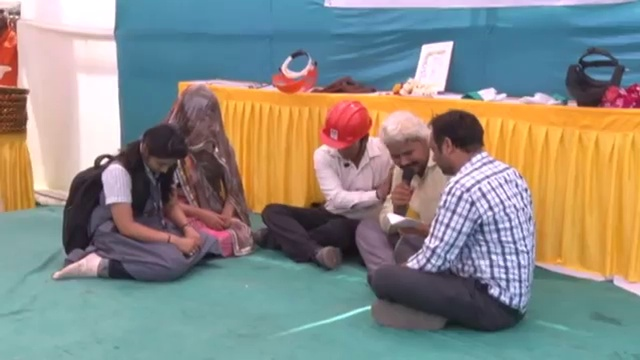helmet: (317, 98, 372, 149)
helmet_off: (430, 109, 486, 181), (171, 85, 224, 157), (132, 121, 190, 181), (385, 112, 431, 181), (0, 10, 21, 36)
helmet_on: (315, 97, 374, 160)
person: (365, 107, 539, 331), (52, 118, 210, 285), (262, 97, 390, 272), (163, 85, 257, 258), (358, 113, 454, 270), (0, 6, 31, 89)
